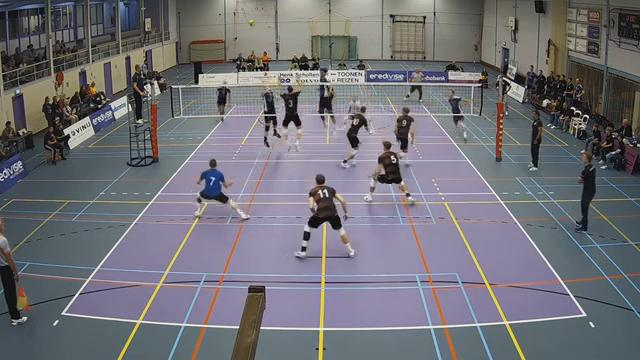Player: (294, 174, 354, 258), (194, 159, 249, 219), (364, 141, 414, 203), (341, 106, 372, 167), (281, 84, 301, 150), (394, 107, 414, 164), (318, 68, 335, 133), (262, 87, 280, 147), (448, 89, 467, 142), (405, 67, 423, 101), (217, 80, 230, 120), (343, 97, 360, 127)
ball: (248, 18, 255, 27)
